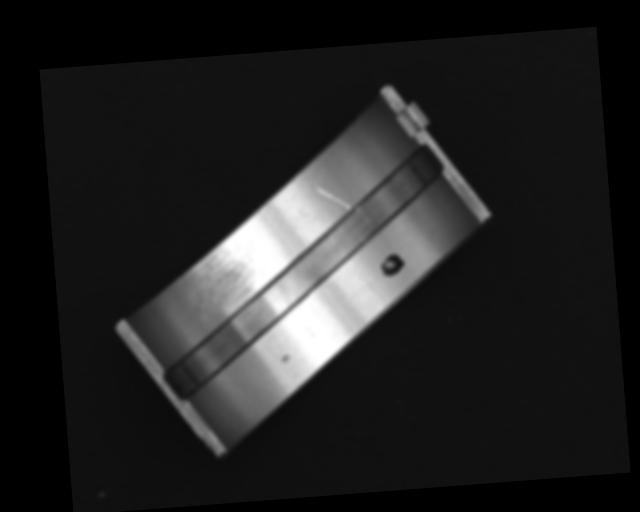blot: (378, 250, 406, 278)
bruise: (280, 352, 291, 363)
gap: (146, 142, 460, 397)
nick: (314, 185, 350, 213), (357, 270, 383, 301)
scratch: (181, 232, 265, 312)
